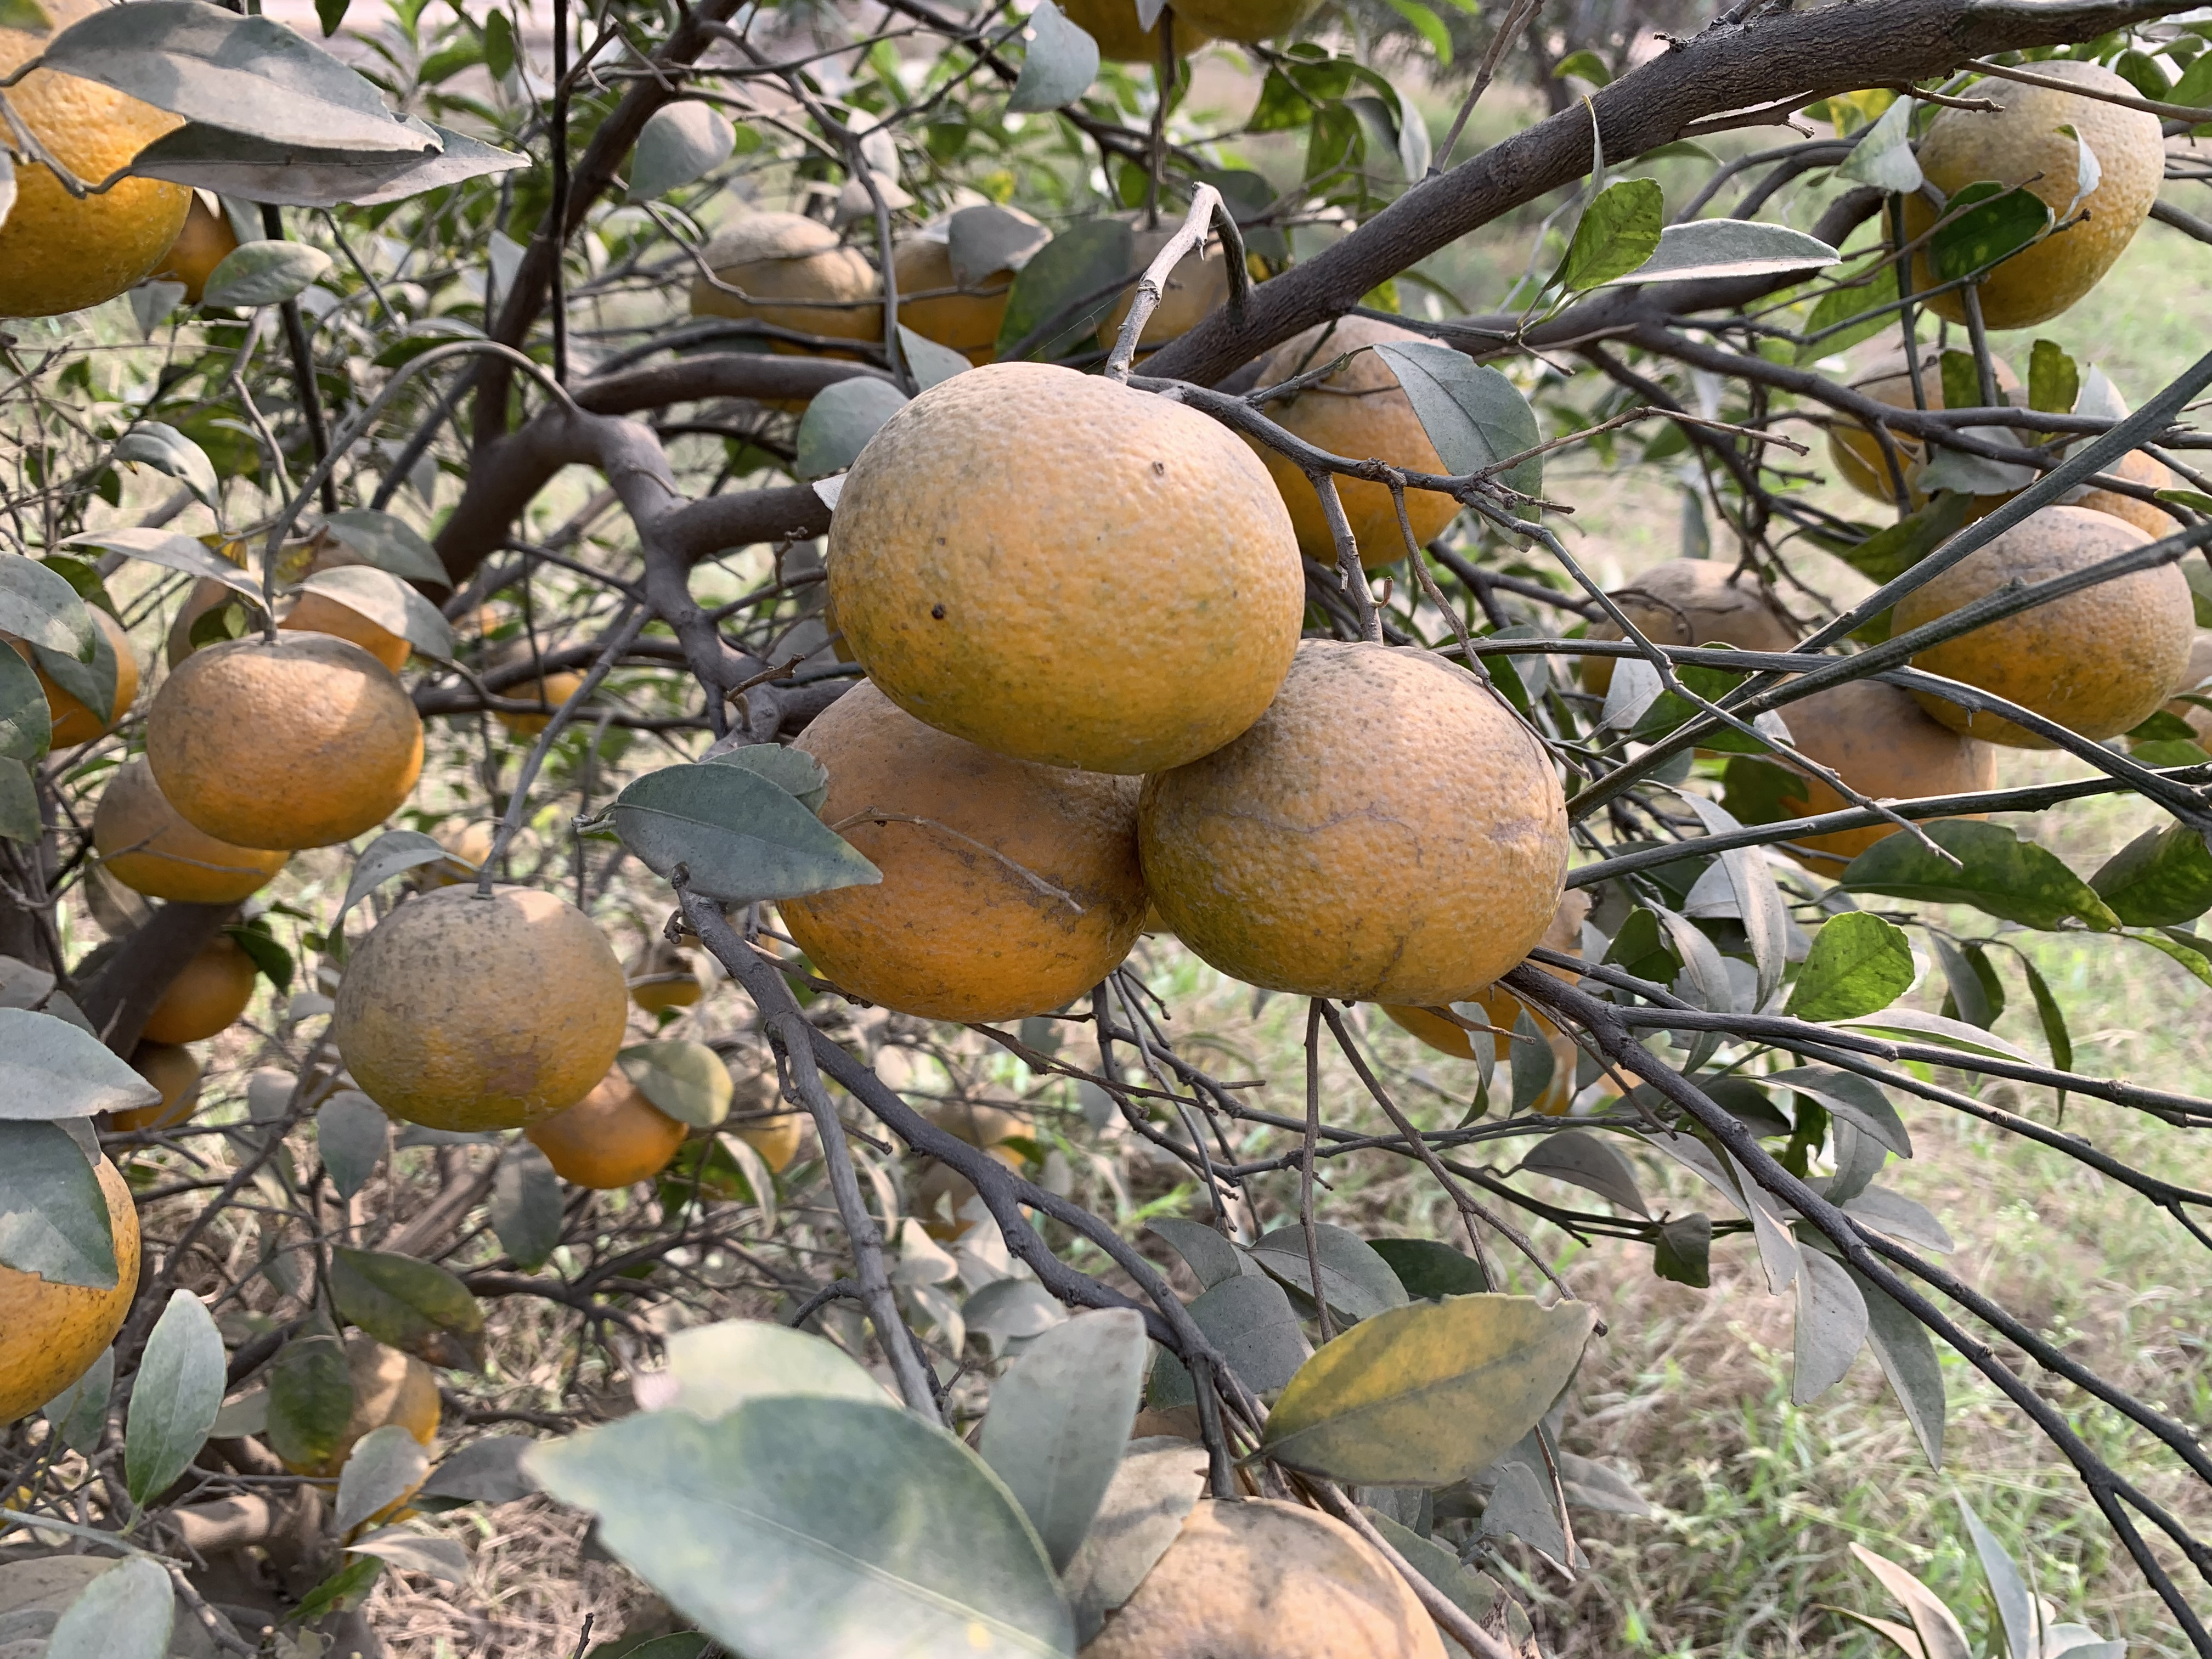orange: (829, 362, 1308, 767), (1130, 641, 1562, 993), (779, 676, 1150, 1023), (336, 885, 629, 1134), (1888, 64, 2163, 326), (1895, 507, 2191, 748), (1089, 1493, 1451, 1659), (2, 5, 192, 310), (1240, 317, 1468, 565), (148, 629, 420, 836), (1773, 660, 1996, 877), (1585, 556, 1799, 744), (3, 1147, 143, 1422), (167, 537, 409, 671), (1827, 342, 2026, 504), (1379, 894, 1566, 1058), (92, 758, 286, 904), (693, 213, 881, 357), (892, 209, 1052, 357), (273, 1335, 435, 1481), (900, 1080, 1036, 1239), (1103, 207, 1231, 347), (540, 1072, 686, 1187), (45, 603, 134, 739), (704, 1040, 796, 1168), (155, 922, 256, 1033), (152, 192, 242, 300), (423, 816, 545, 894), (1533, 1032, 1635, 1122), (493, 636, 582, 734), (1066, 3, 1209, 63), (110, 1042, 202, 1131), (2088, 443, 2168, 528), (631, 939, 716, 1014), (1183, 2, 1310, 38)
